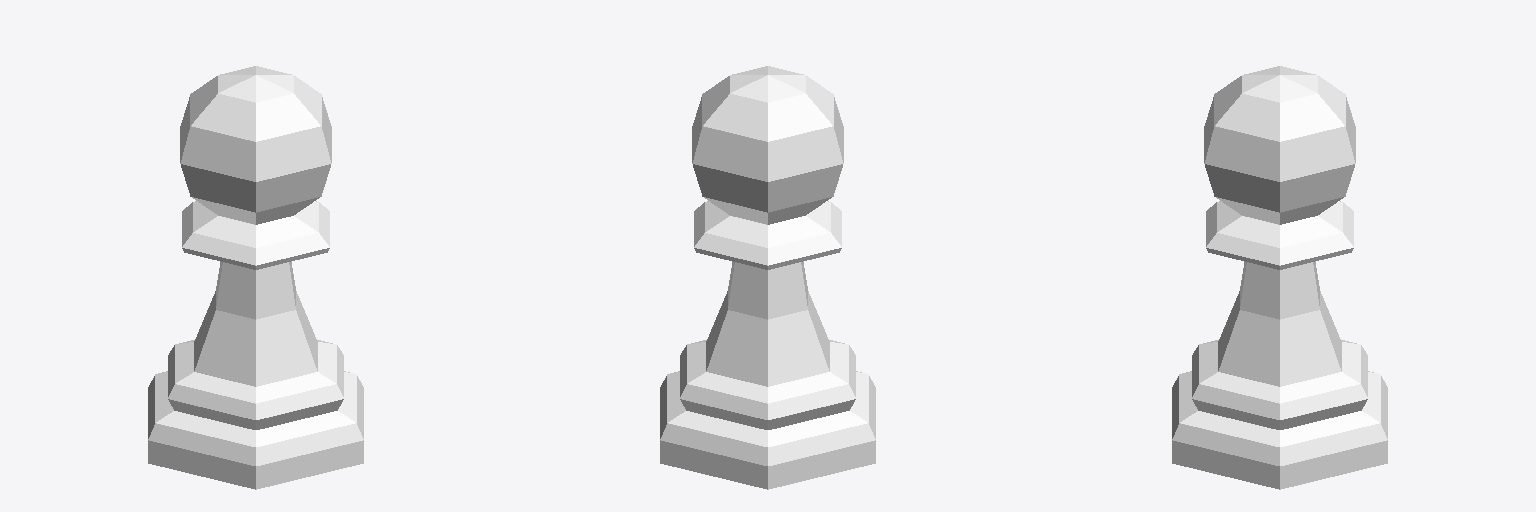
Rendered from soldier_white.obj.
3 renders of one model, left to right at view 1: azimuth 30°, elevation 25°; view 2: azimuth 150°, elevation 25°; view 3: azimuth 270°, elevation 25°, orthographic.
Parts seen in each view (by area): view 1: Pawn.015; view 2: Pawn.015; view 3: Pawn.015.
Boxes of the visible parts, x1,y1,x2,y2 form: Pawn.015: [148, 66, 363, 489]; Pawn.015: [660, 66, 875, 489]; Pawn.015: [1172, 66, 1387, 489].
Bounding box in the file's own units: 0.7559 × 1.21 × 0.6546.